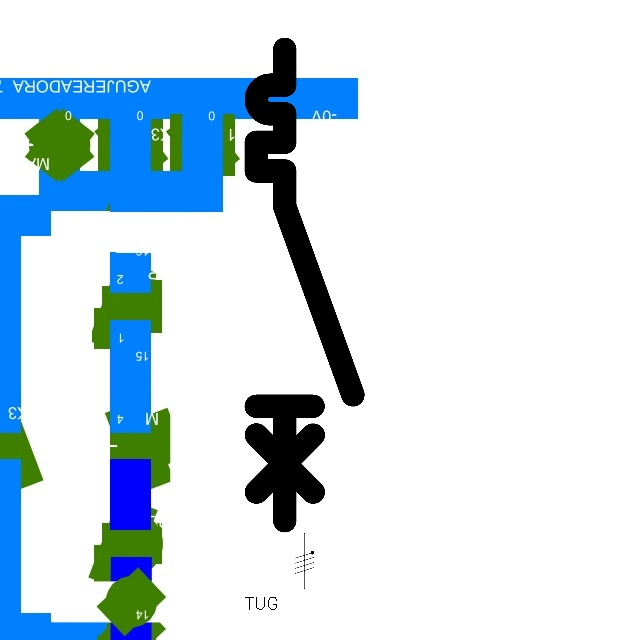interruptor_termomagnetico: (244, 37, 365, 532)
